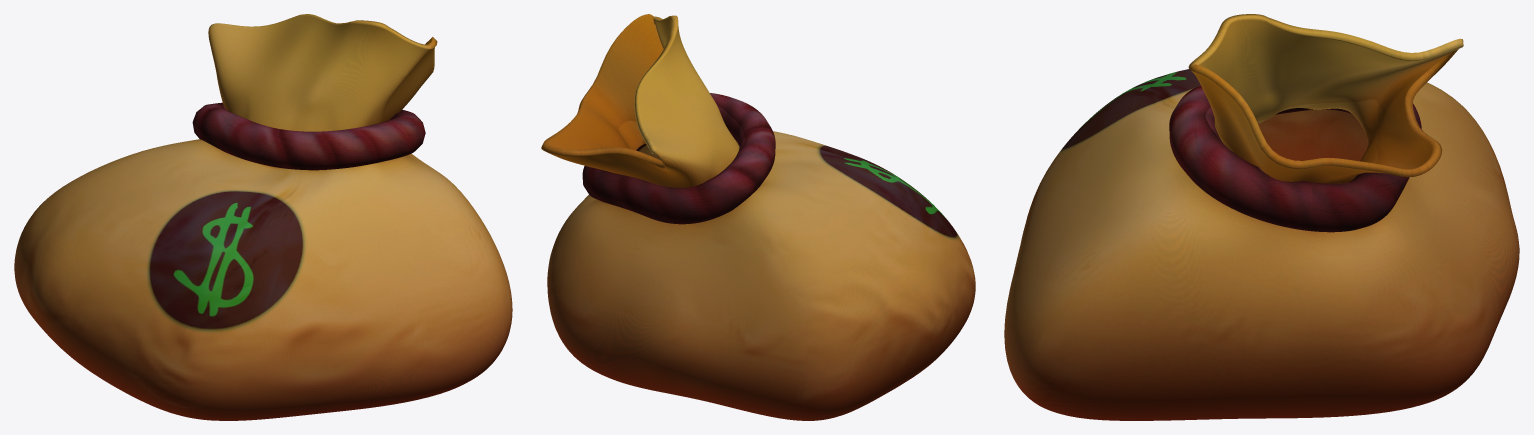
The model's file is money_bag.glb.
3 renders of one model, left to right at view 1: azimuth 30°, elevation 25°; view 2: azimuth 150°, elevation 25°; view 3: azimuth 270°, elevation 25°, orthographic. The views are drawn at different scales.
Parts seen in each view (by area): view 1: Cube; view 2: Cube; view 3: Cube.
Part boxes in pixels (x1=…): Cube: x1=14, y1=14, x2=512, y2=420; Cube: x1=541, y1=14, x2=975, y2=420; Cube: x1=1004, y1=14, x2=1519, y2=420.
Bounding box in the file's own units: 2 × 1.61 × 1.87.
1 material, 1 textured.
